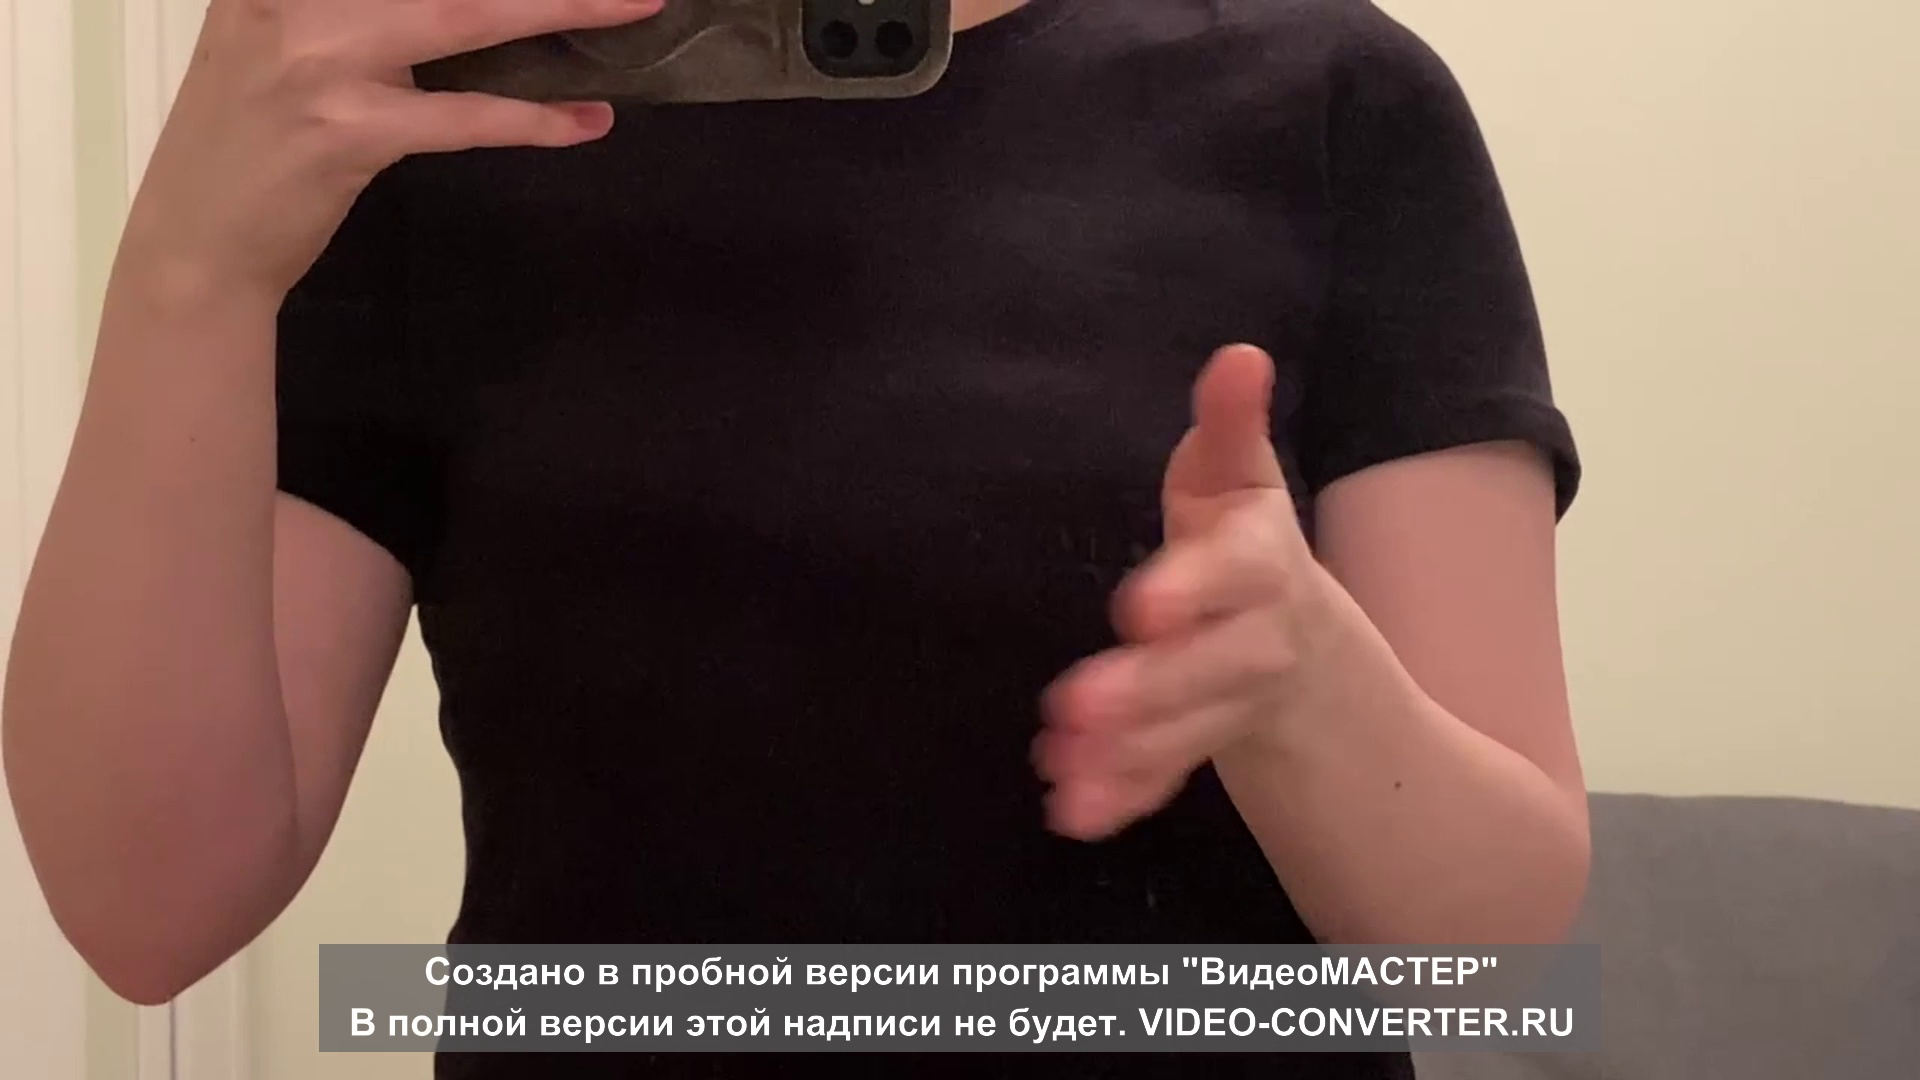Кисть: (1038, 342, 1304, 829)
